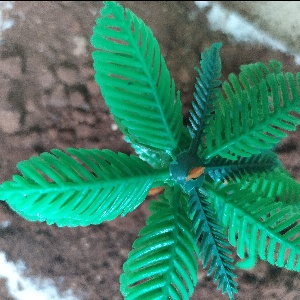plant: (1, 2, 299, 299)
